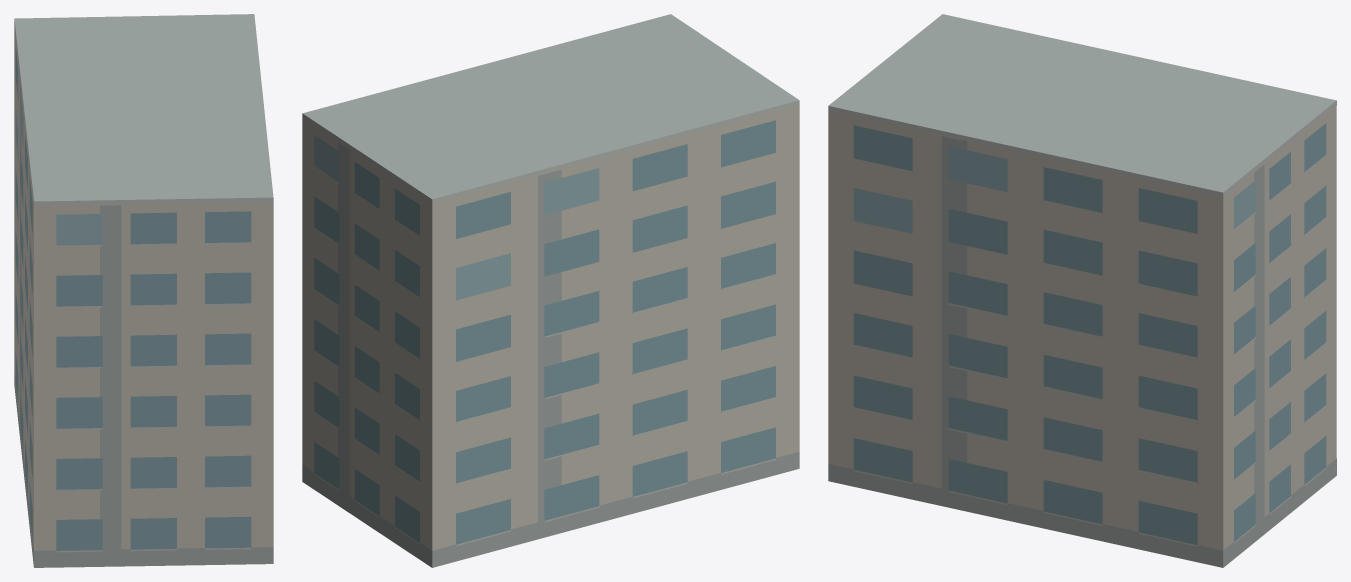
The model's file is survey-upis-32550452.glb.
3 views of the same model, side by side, from view 1: azimuth 30°, elevation 25°; view 2: azimuth 150°, elevation 25°; view 3: azimuth 270°, elevation 25° (orthographic). The views are drawn at different scales.
Parts seen in each view (by area): view 1: survey-upis-32550452.tmp; view 2: survey-upis-32550452.tmp; view 3: survey-upis-32550452.tmp.
Part boxes in pixels (bbox=[...]): survey-upis-32550452.tmp: bbox=[14, 14, 273, 567]; survey-upis-32550452.tmp: bbox=[302, 14, 799, 567]; survey-upis-32550452.tmp: bbox=[828, 14, 1336, 567].
Bounding box in the file's own units: 17.56 × 17.2 × 21.13.
